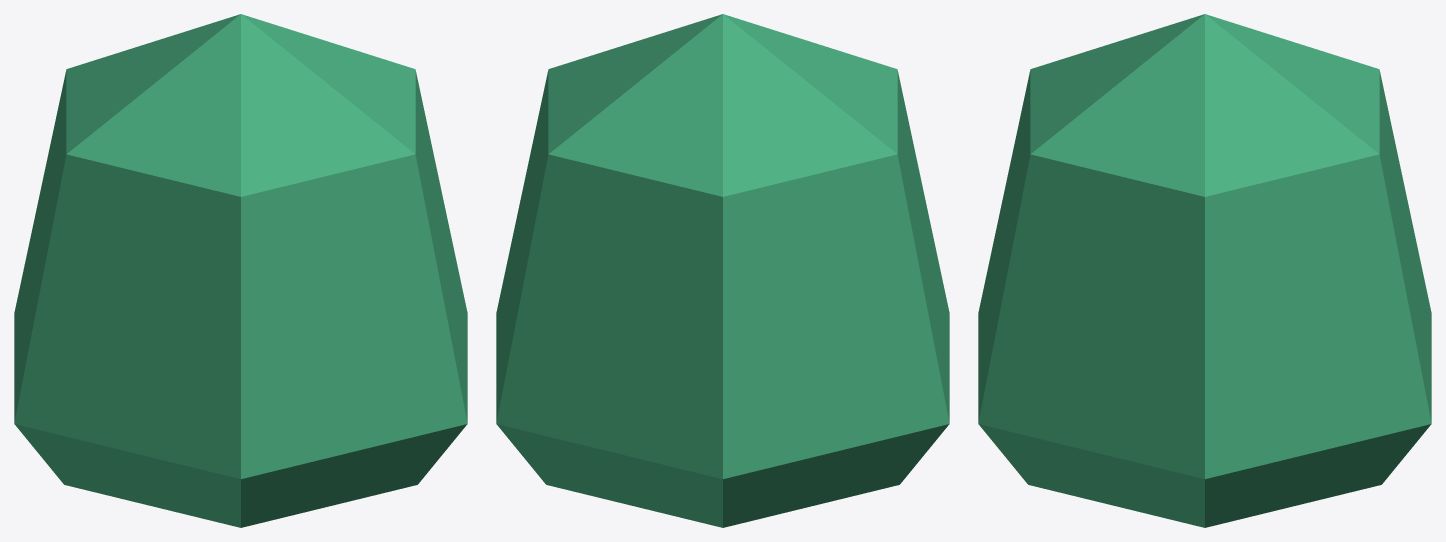
File: bush_round.glb
3 views of the same model, side by side, from view 1: azimuth 30°, elevation 25°; view 2: azimuth 150°, elevation 25°; view 3: azimuth 270°, elevation 25° (orthographic).
Visible parts, largest first — view 1: bush_round; view 2: bush_round; view 3: bush_round.
Boxes of the visible parts, x1,y1,x2,y2 form: bush_round: [14, 14, 467, 527]; bush_round: [496, 14, 949, 527]; bush_round: [978, 14, 1431, 527].
Size of the model in its own units: 0.755 by 0.6806 by 0.6538.
